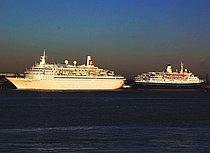Ship: (5, 52, 129, 94)
